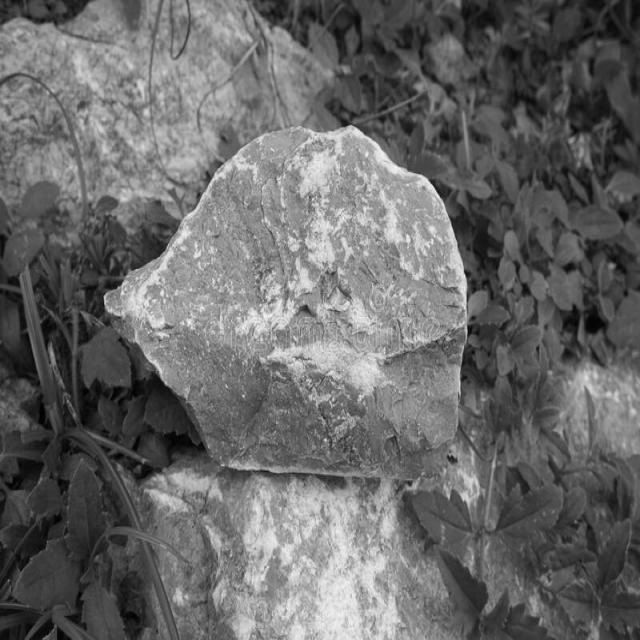Stone: (105, 128, 466, 478), (136, 454, 462, 640)
